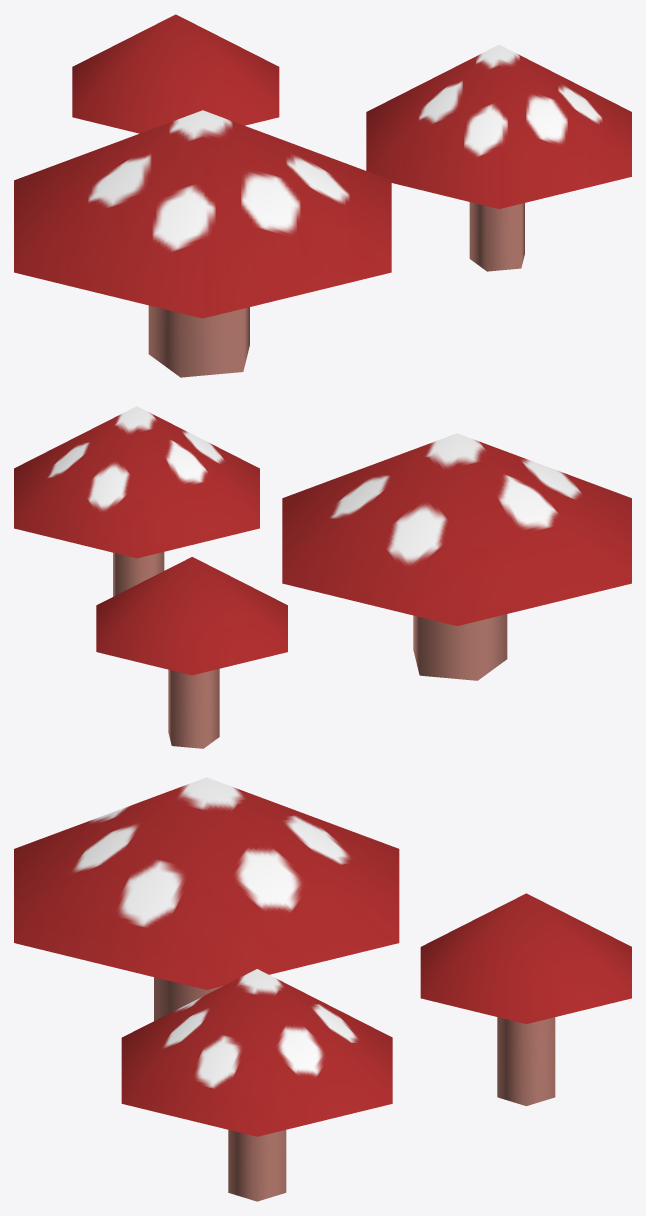
Rendered from SM_Mushrooms_1.FBX.
The picture shows the model from 3 angles, top to bottom: view 1: azimuth 30°, elevation 25°; view 2: azimuth 150°, elevation 25°; view 3: azimuth 270°, elevation 25°; orthographic projection. The views are drawn at different scales.
Visible parts, largest first — view 1: SM_Mushrooms_1; view 2: SM_Mushrooms_1; view 3: SM_Mushrooms_1.
Part boxes in pixels (bbox=[...]): SM_Mushrooms_1: bbox=[14, 14, 631, 377]; SM_Mushrooms_1: bbox=[14, 406, 631, 748]; SM_Mushrooms_1: bbox=[14, 777, 631, 1201].
Size of what is drawn, in the model's own units: 61.29 by 49.99 by 22.45.
